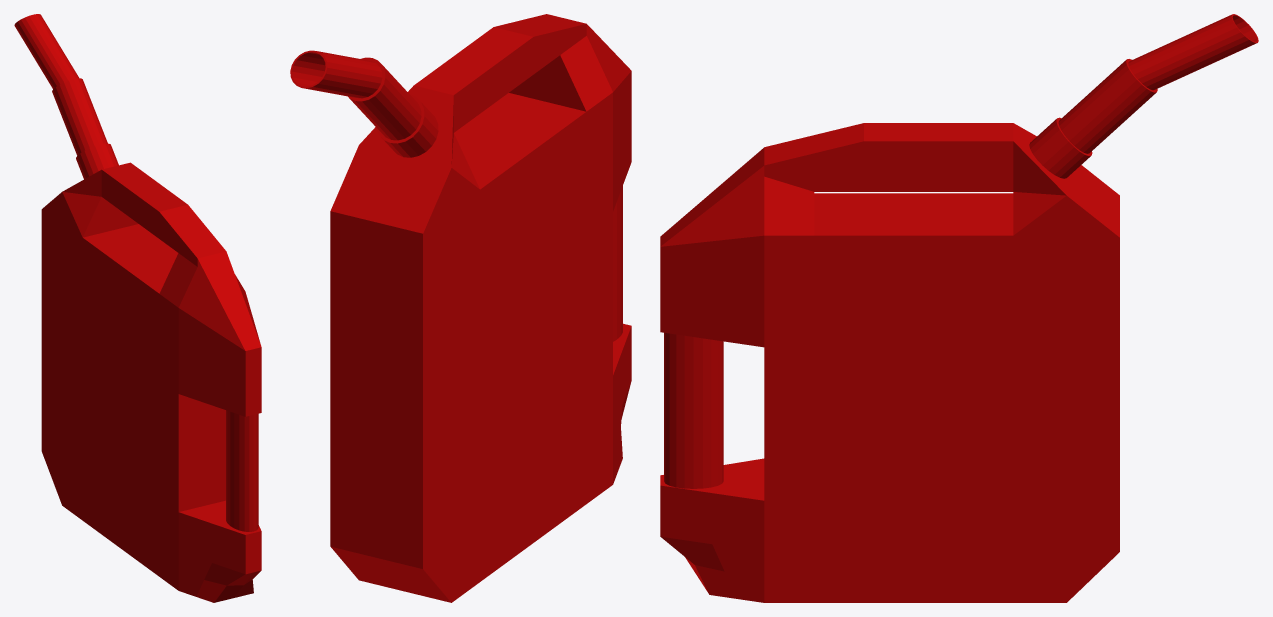
The model's file is jug.fbx.
3 renders of one model, left to right at view 1: azimuth 30°, elevation 25°; view 2: azimuth 150°, elevation 25°; view 3: azimuth 270°, elevation 25°, orthographic. The views are drawn at different scales.
Parts seen in each view (by area): view 1: Jug; view 2: Jug; view 3: Jug.
Boxes of the visible parts, <box> form: Jug: <box>14,14,261,602</box>; Jug: <box>290,14,631,602</box>; Jug: <box>660,14,1258,602</box>.
Bounding box in the file's own units: 0.2278 × 1.42 × 1.36.
